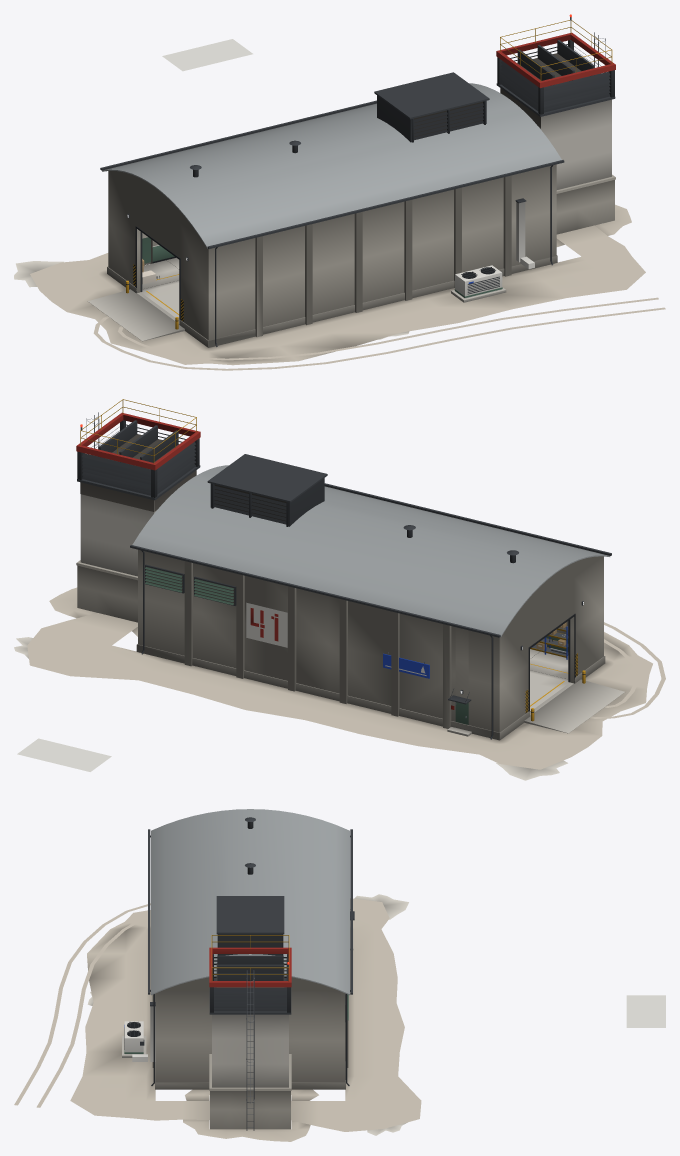
The model's file is hush.glb.
3 views of the same model, one above another, from view 1: azimuth 30°, elevation 25°; view 2: azimuth 150°, elevation 25°; view 3: azimuth 270°, elevation 25° (orthographic). The views are drawn at different scales.
Parts seen in each view (by area): view 1: hush, hushStack, hushIn; view 2: hush, hushStack, hushIn; view 3: hush, hushStack, hushIn.
Boxes of the visible parts, left/top/right/bottom form: hush: left=14, top=72, right=665, bottom=370; hushStack: left=496, top=14, right=631, bottom=246; hushIn: left=140, top=39, right=252, bottom=315; hush: left=14, top=454, right=665, bottom=780; hushStack: left=49, top=399, right=200, bottom=636; hushIn: left=17, top=619, right=570, bottom=771; hush: left=14, top=809, right=421, bottom=1135; hushStack: left=183, top=935, right=318, bottom=1141; hushIn: left=626, top=995, right=665, bottom=1027.
Bounding box in the file's own units: 43.32 × 13.57 × 48.17.
